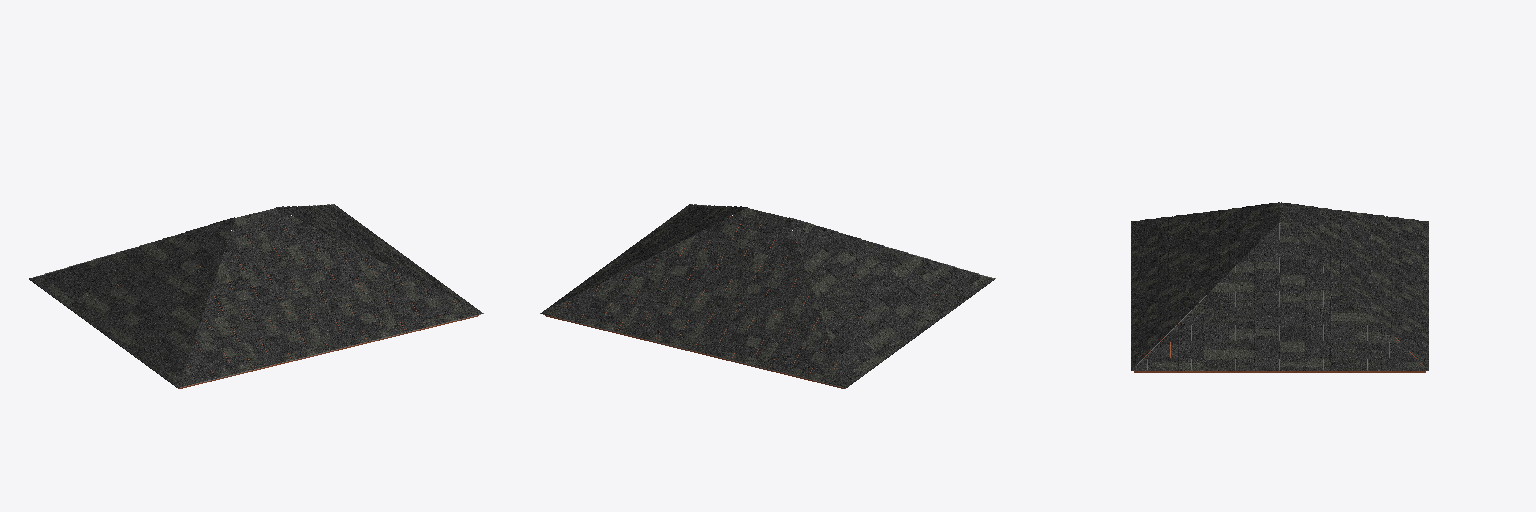
3 views of the same model, side by side, from view 1: azimuth 30°, elevation 25°; view 2: azimuth 150°, elevation 25°; view 3: azimuth 270°, elevation 25° (orthographic).
Visible parts, largest first — view 1: shingles_front, singles_left, singles_right, roof_wood; view 2: shingles_back, singles_left, singles_right, roof_wood; view 3: singles_right, shingles_front, shingles_back, roof_wood.
Part boxes in pixels (x1,y1,x2,y2): shingles_front: (178,208,483,387); singles_left: (29,217,235,387); singles_right: (276,204,480,311); roof_wood: (87,216,478,388); shingles_back: (540,208,845,387); singles_left: (788,217,994,387); singles_right: (543,204,747,311); roof_wood: (545,216,936,388); singles_right: (1131,223,1428,370); shingles_front: (1131,203,1279,369); shingles_back: (1280,203,1428,369); roof_wood: (1134,224,1425,372).
Bounding box in the file's own units: 156 × 42.36 × 132.
Materials: 3 (2 with a texture image).